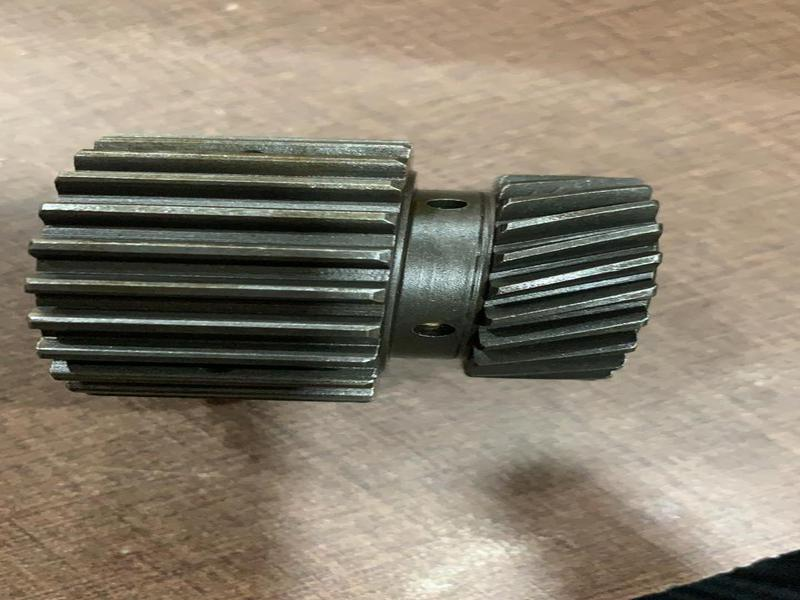engine gear alfa: (26, 77, 686, 479)
